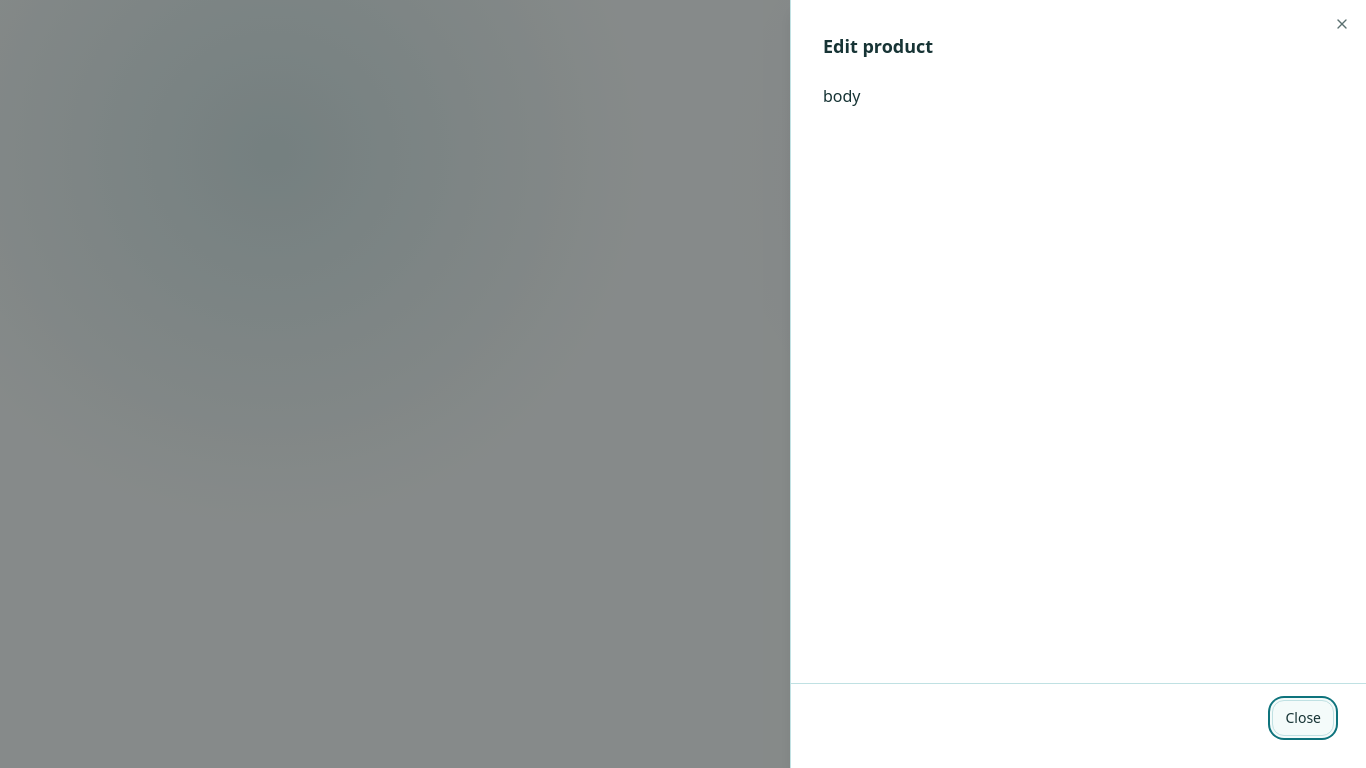
Test: flyout discard prompt › renders above the sheet backdrop so its buttons stay clickable
The width and height of the screenshot is (1366, 768).
Press Escape
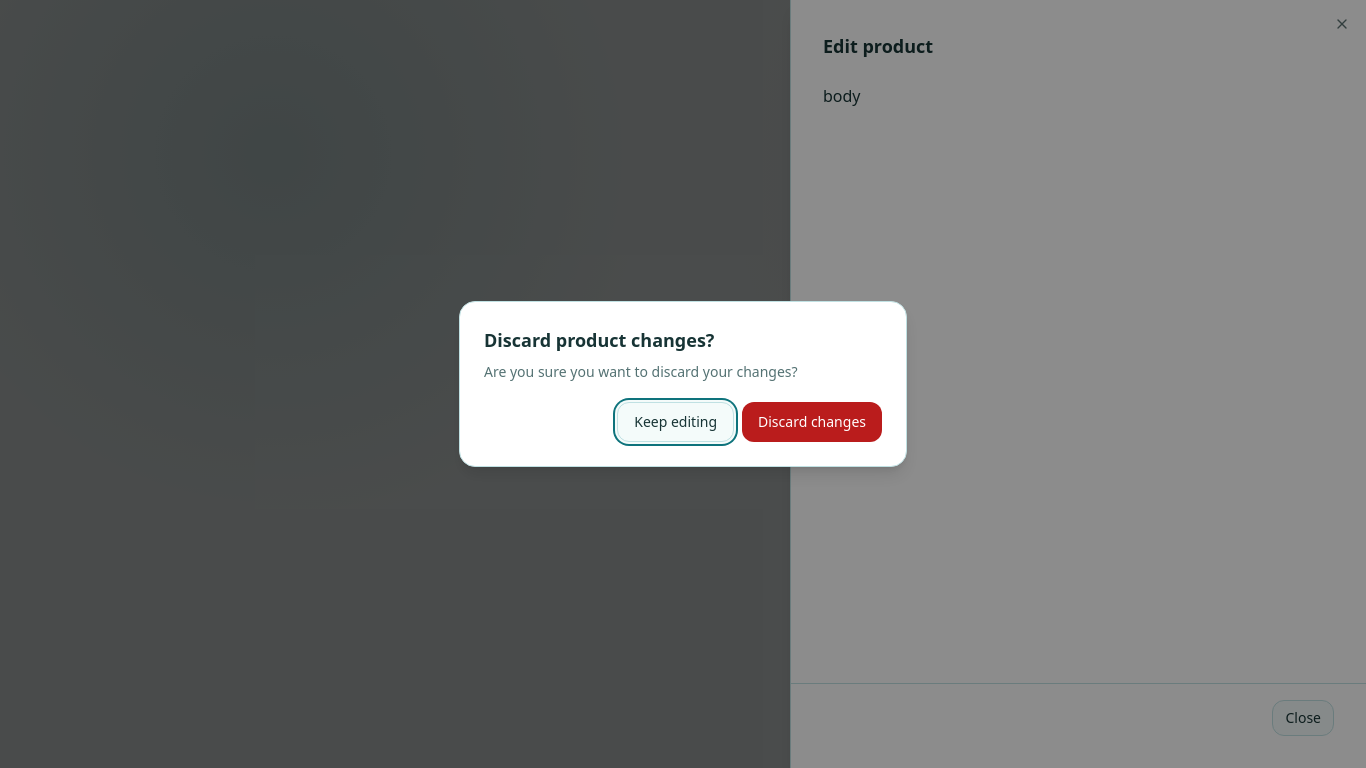
expect the text "Discard product changes?" is shown: met, box [484,328,714,352]
Note: And the prompt actually answers.
Click the button "Keep editing".
click(676, 422)  # box [617,402,734,442]
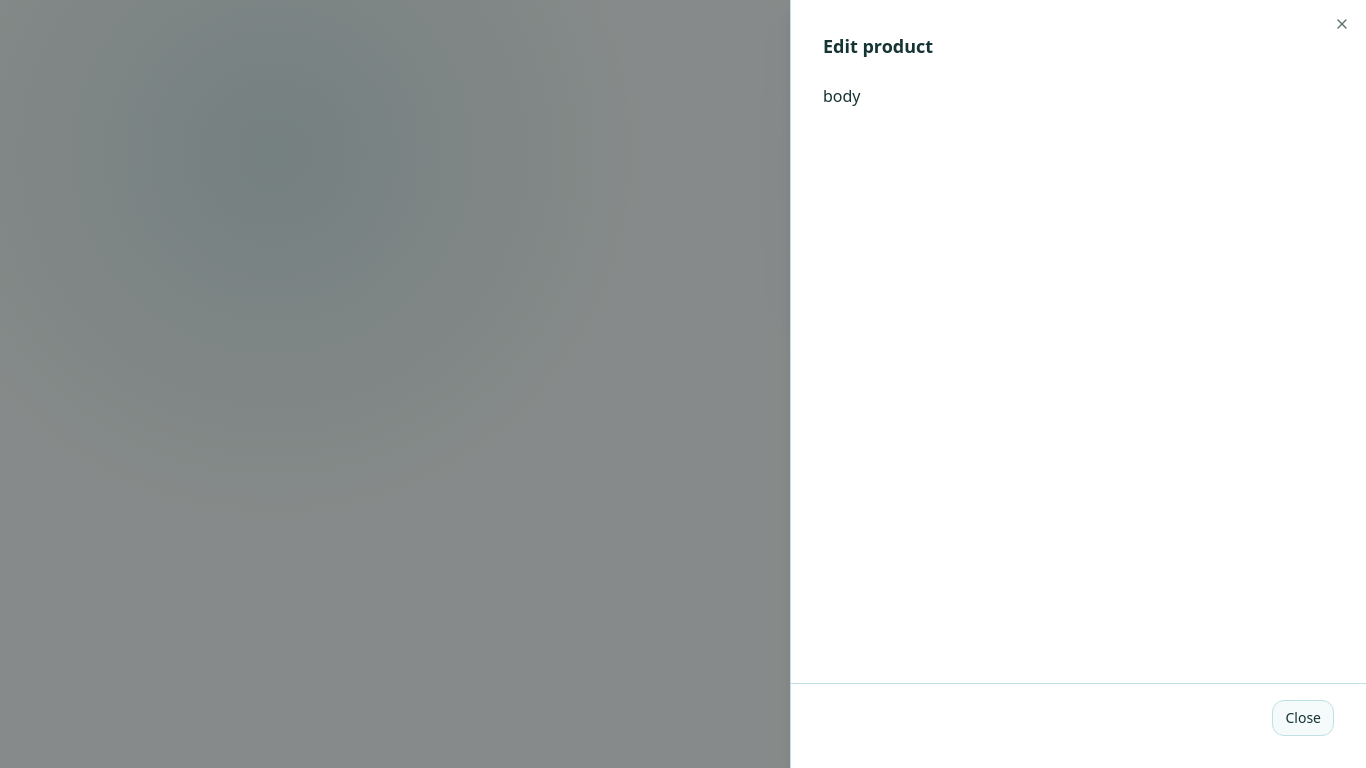
expect the heading "Discard product changes?" is gone: met
